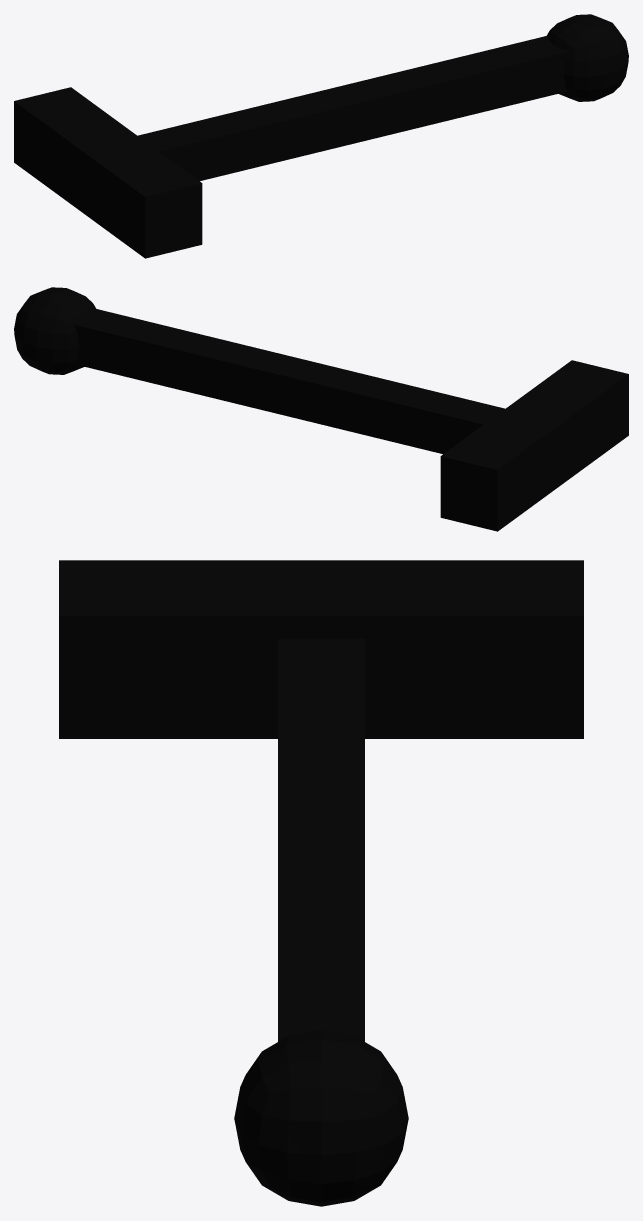
Rendered from hookShadow.obj.
The picture shows the model from 3 angles, top to bottom: view 1: azimuth 30°, elevation 25°; view 2: azimuth 150°, elevation 25°; view 3: azimuth 270°, elevation 25°; orthographic projection. The views are drawn at different scales.
Parts seen in each view (by area): view 1: 立方体.004; view 2: 立方体.004; view 3: 立方体.004.
Boxes of the visible parts, bbox=[...] form: 立方体.004: bbox=[14, 14, 628, 258]; 立方体.004: bbox=[14, 287, 628, 531]; 立方体.004: bbox=[59, 560, 583, 1206].
Bounding box in the file's own units: 1.88 × 0.2609 × 0.785.
1 material, 1 textured.
